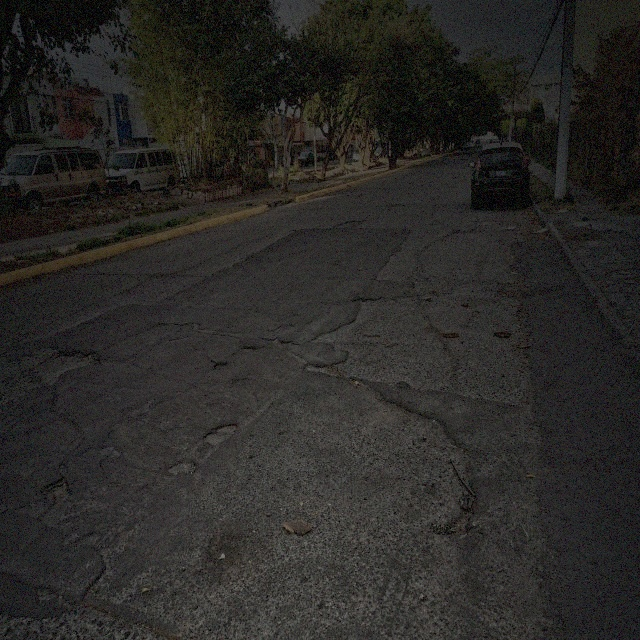pothole: (438, 440, 485, 534), (75, 534, 121, 608), (34, 344, 100, 390), (202, 418, 238, 452), (302, 359, 343, 381), (43, 476, 72, 506), (169, 457, 198, 481), (184, 317, 201, 334), (270, 335, 290, 347), (242, 343, 257, 356), (58, 462, 69, 476), (214, 358, 228, 369)
